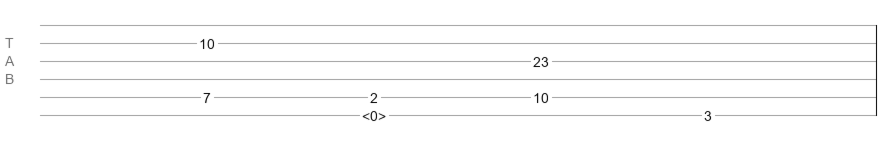10: (199, 36, 215, 46), (533, 90, 549, 100)
2: (370, 90, 378, 100)
23: (533, 54, 549, 64)
3: (704, 108, 712, 118)
7: (203, 90, 211, 100)
harmonic: (362, 108, 386, 118)
